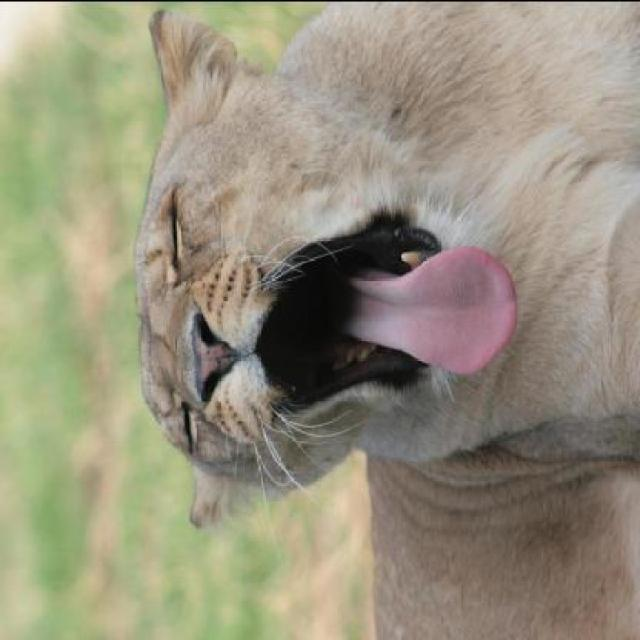Lion: (76, 9, 638, 609)
